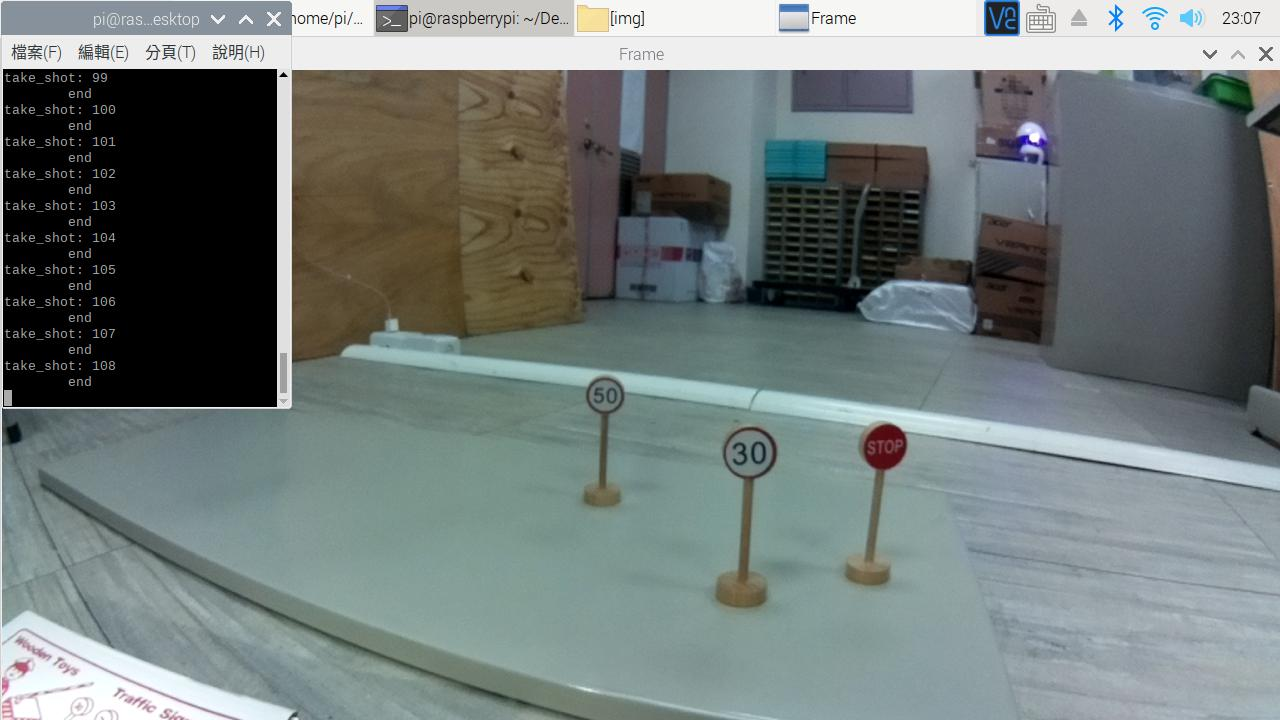Speed30: (717, 424, 786, 482)
Speed50: (573, 368, 637, 420)
Stop: (851, 424, 917, 481)
